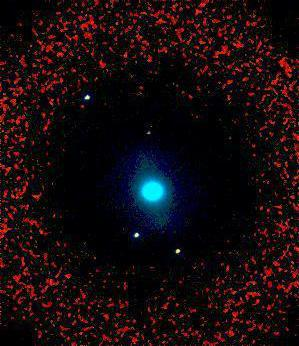star: (134, 117, 164, 147)
